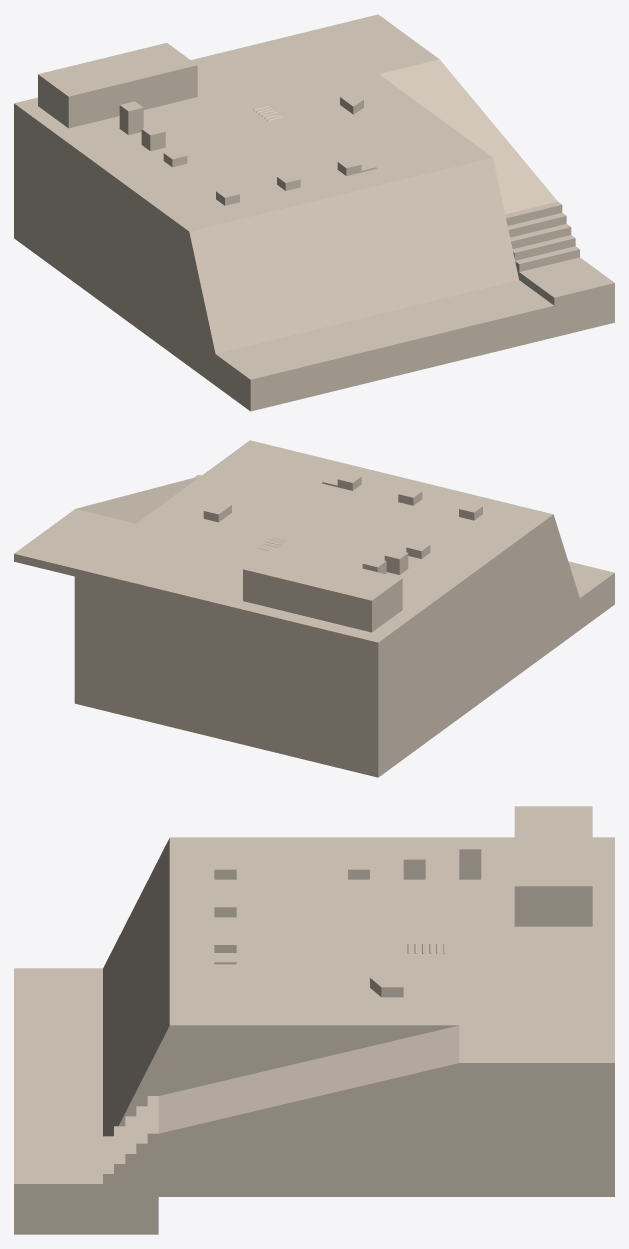
The model's file is playground.glb.
3 views of the same model, one above another, from view 1: azimuth 30°, elevation 25°; view 2: azimuth 150°, elevation 25°; view 3: azimuth 270°, elevation 25° (orthographic). The views are drawn at different scales.
Parts seen in each view (by area): view 1: Wall; view 2: Wall; view 3: Wall.
Boxes of the visible parts, <box> form: Wall: <box>14,14,614,411</box>; Wall: <box>14,440,614,777</box>; Wall: <box>14,806,614,1234</box>.
Size of the model in its own units: 48 by 21 by 54.
